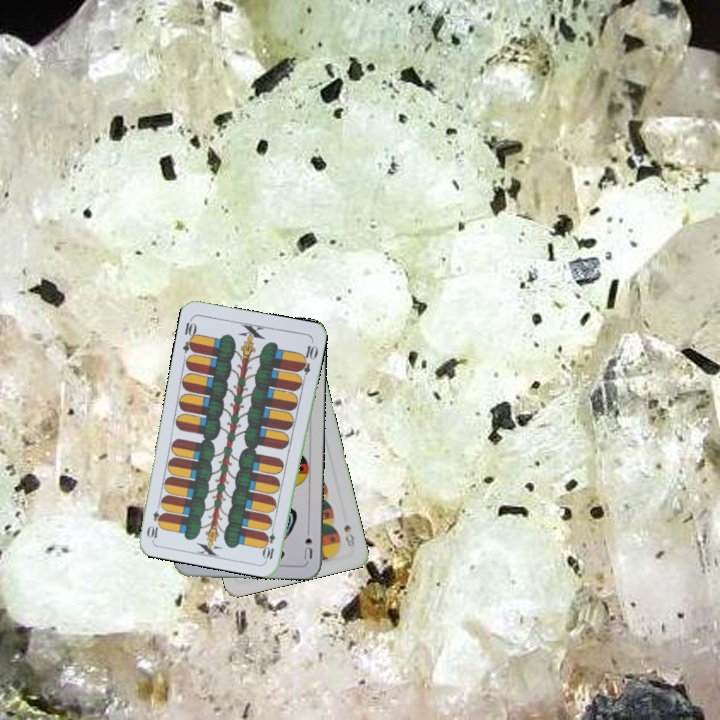E10: (179, 314, 200, 355), (261, 521, 278, 562)
S8: (340, 520, 357, 550)
SU: (300, 522, 315, 562)
